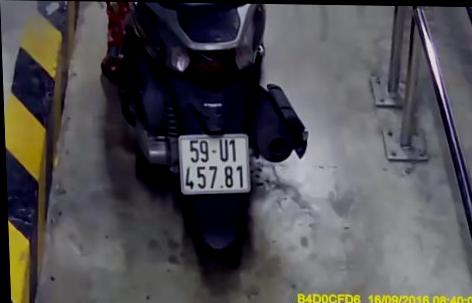License_Plate: (168, 131, 255, 198)
